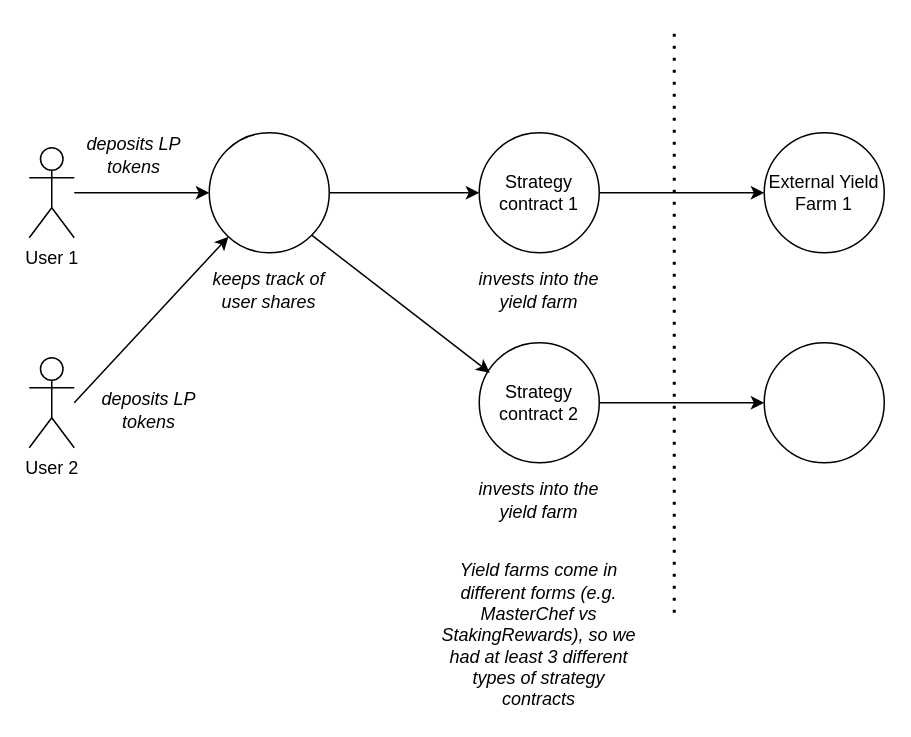
Some shapes in this 911 by 737 pixel diagram are drawn without their labels. Here are the shapes that lost their labels. From the top down, the centre of each, then its label:
At (x=268, y=192): "VaultHealer contract".
At (x=823, y=402): "External Yield Farm 2".
